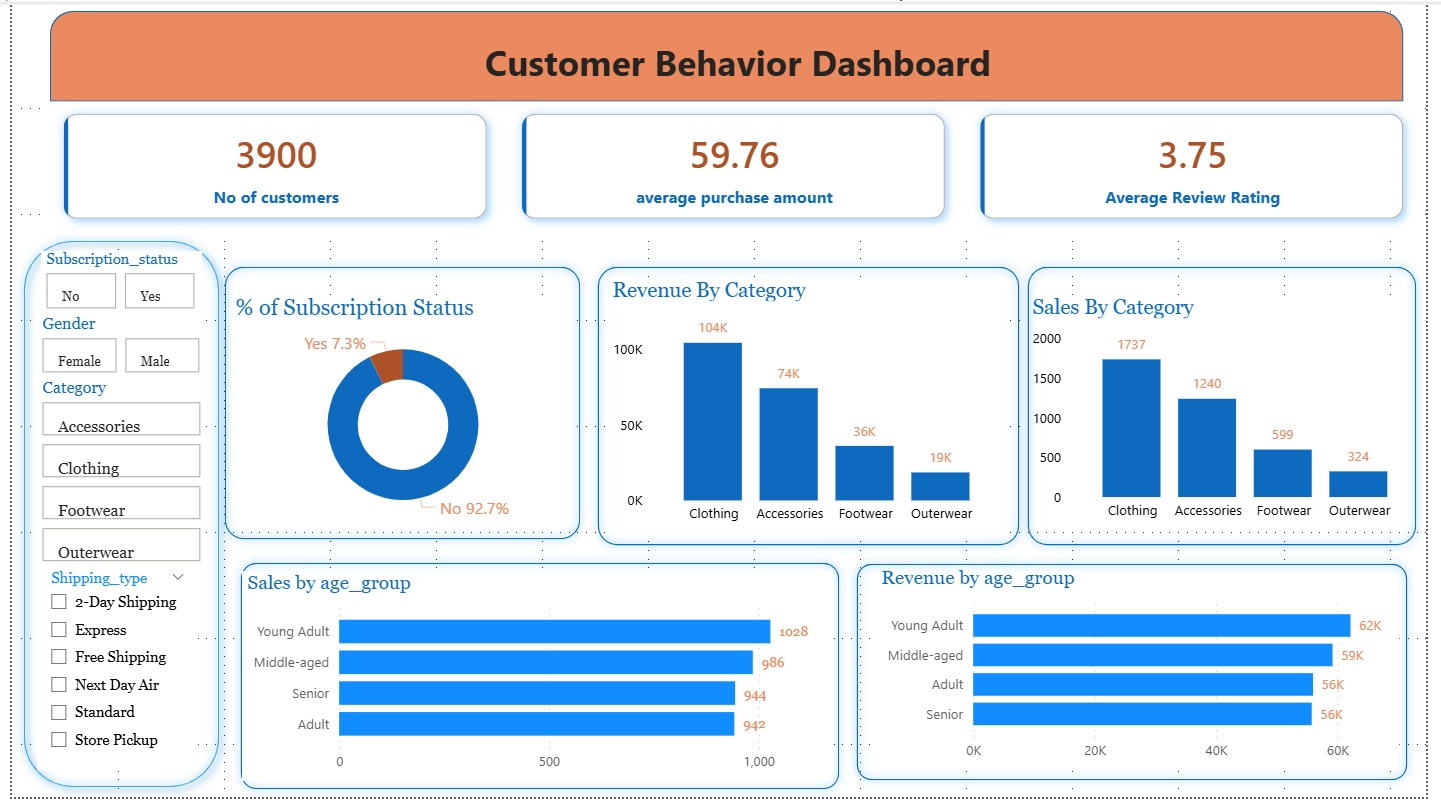

This screenshot's page, from the dashboard's own definition file:
{"tool":"powerbi","page":{"name":"Page 1","canvas":[1280,720],"ordinal":0},"visuals":[{"type":"cardVisual","fields":{"Data":["customer_behavior customer.No of customers","customer_behavior customer.average purchase amount","customer_behavior customer.Average Review Rating"]},"box":[29.9,84.2,1249.8,129.5],"z":0},{"type":"shape","box":[34.5,8.4,1225.6,82],"z":1000},{"type":"textbox","box":[238.6,27,838.8,56.9],"z":2000},{"type":"donutChart","title":"% of Subscription Status","fields":{"Category":["customer_behavior customer.subscription_status"],"Y":["Sum(customer_behavior customer.customer_id)"]},"box":[197.4,265.4,313.4,212.8],"z":3000},{"type":"clusteredColumnChart","title":"Sales By Category","fields":{"Category":["customer_behavior customer.category"],"Y":["customer_behavior customer.No of customers"]},"box":[919,265,361,213],"z":4000},{"type":"shape","box":[1.8,207.4,194.7,512.6],"z":5000},{"type":"clusteredColumnChart","title":"Revenue By Category","fields":{"Y":["Sum(customer_behavior customer.purchase_amount)"],"Category":["customer_behavior customer.category"]},"box":[539.3,250.1,363.1,231.5],"z":6001,"group":"g1"},{"type":"shape","box":[522.6,231.8,397.6,268.1],"z":6008,"group":"g1"},{"type":"shape","box":[184.8,231.8,337.8,262.6],"z":7000},{"type":"shape","box":[912,231.8,367.7,268.1],"z":8000},{"type":"group","id":"g1","title":"Group 1","box":[522.6,231.8,397.6,268.1],"z":9000},{"type":"advancedSlicerVisual","title":"Gender","fields":{"Values":["customer_behavior customer.gender"]},"box":[22.6,283.5,153.1,58],"z":10000},{"type":"advancedSlicerVisual","title":"Category","fields":{"Values":["customer_behavior customer.category"]},"box":[22.6,341.4,153.1,173.9],"z":11000},{"type":"slicer","fields":{"Values":["customer_behavior customer.shipping_type"]},"box":[22.6,509,145.8,187.5],"z":12000},{"type":"advancedSlicerVisual","title":"Subscription_status","fields":{"Values":["customer_behavior customer.subscription_status"]},"box":[26.3,225.5,145.8,58],"z":12001},{"type":"clusteredBarChart","title":"Revenue by age_group","fields":{"Y":["Sum(customer_behavior customer.purchase_amount)"],"Category":["customer_behavior customer.age_group"]},"box":[782.5,510.8,473.7,184.8],"z":12002},{"type":"shape","box":[199.2,499.9,557.9,221],"z":12003},{"type":"clusteredBarChart","title":"Sales by age_group","fields":{"Category":["customer_behavior customer.age_group"],"Y":["CountNonNull(customer_behavior customer.customer_id)"]},"box":[208.3,515.3,535.2,190.2],"z":12004},{"type":"shape","box":[757.1,500.8,514.4,211.9],"z":12005}]}

Visuals, with their boxes in screenshot pixels (x1, y1, x2, y2), scaled from the page's 1280x720 canvas onto the 1441x802 screenshot:
cardVisual - customer_behavior customer.No of customers x customer_behavior customer.average purchase amount: l=34, t=94, r=1440, b=238
shape: l=39, t=9, r=1419, b=101
textbox: l=269, t=30, r=1213, b=93
"% of Subscription Status" donutChart: l=222, t=296, r=575, b=533
"Sales By Category" clusteredColumnChart: l=1035, t=295, r=1440, b=532
shape: l=2, t=231, r=221, b=801
"Revenue By Category" clusteredColumnChart: l=607, t=279, r=1016, b=536
shape: l=588, t=258, r=1036, b=557
shape: l=208, t=258, r=588, b=551
shape: l=1027, t=258, r=1440, b=557
"Group 1" group: l=588, t=258, r=1036, b=557
"Gender" advancedSlicerVisual: l=25, t=316, r=198, b=380
"Category" advancedSlicerVisual: l=25, t=380, r=198, b=574
slicer - customer_behavior customer.shipping_type: l=25, t=567, r=190, b=776
"Subscription_status" advancedSlicerVisual: l=30, t=251, r=194, b=316
"Revenue by age_group" clusteredBarChart: l=881, t=569, r=1414, b=775
shape: l=224, t=557, r=852, b=801
"Sales by age_group" clusteredBarChart: l=235, t=574, r=837, b=786
shape: l=852, t=558, r=1431, b=794
